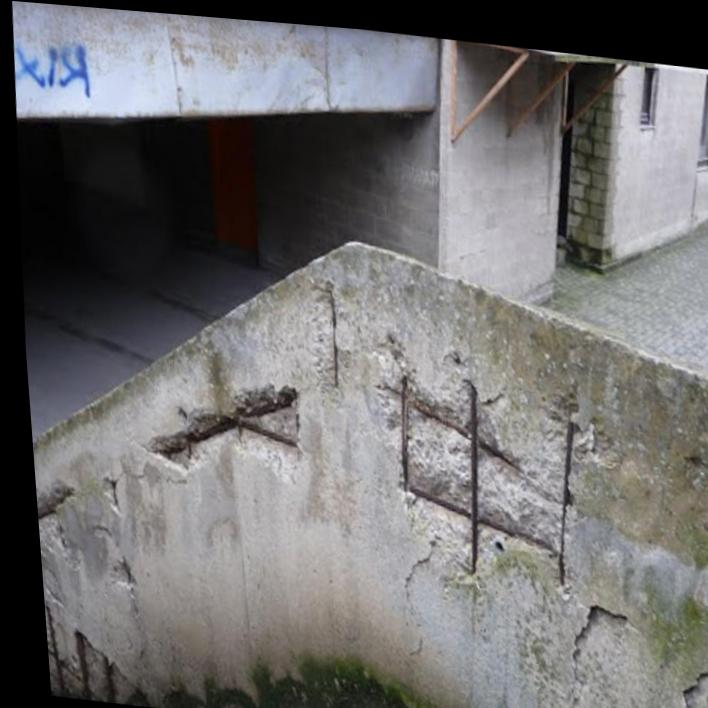crack: (396, 532, 431, 652)
damage: (364, 332, 618, 595), (137, 379, 298, 481), (35, 604, 138, 704), (29, 481, 77, 574), (310, 277, 340, 403)
